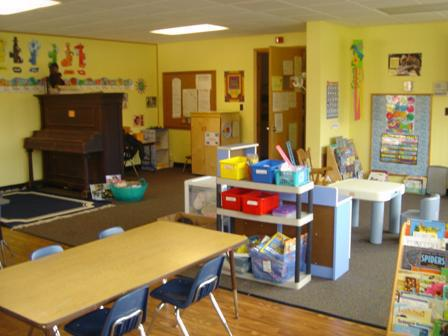Otro Obstaculo: (32, 91, 122, 197), (102, 170, 149, 202)
Puerta: (263, 45, 307, 161)
